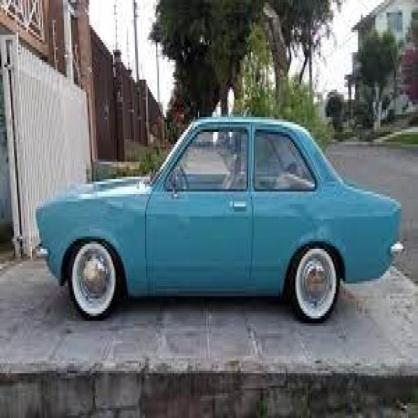car: (38, 115, 405, 325)
